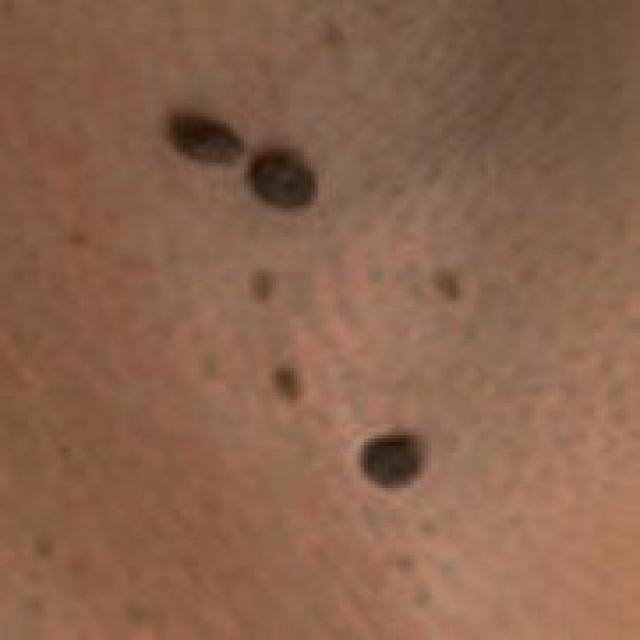wart: (163, 106, 244, 166), (244, 145, 318, 209), (357, 428, 432, 484)
